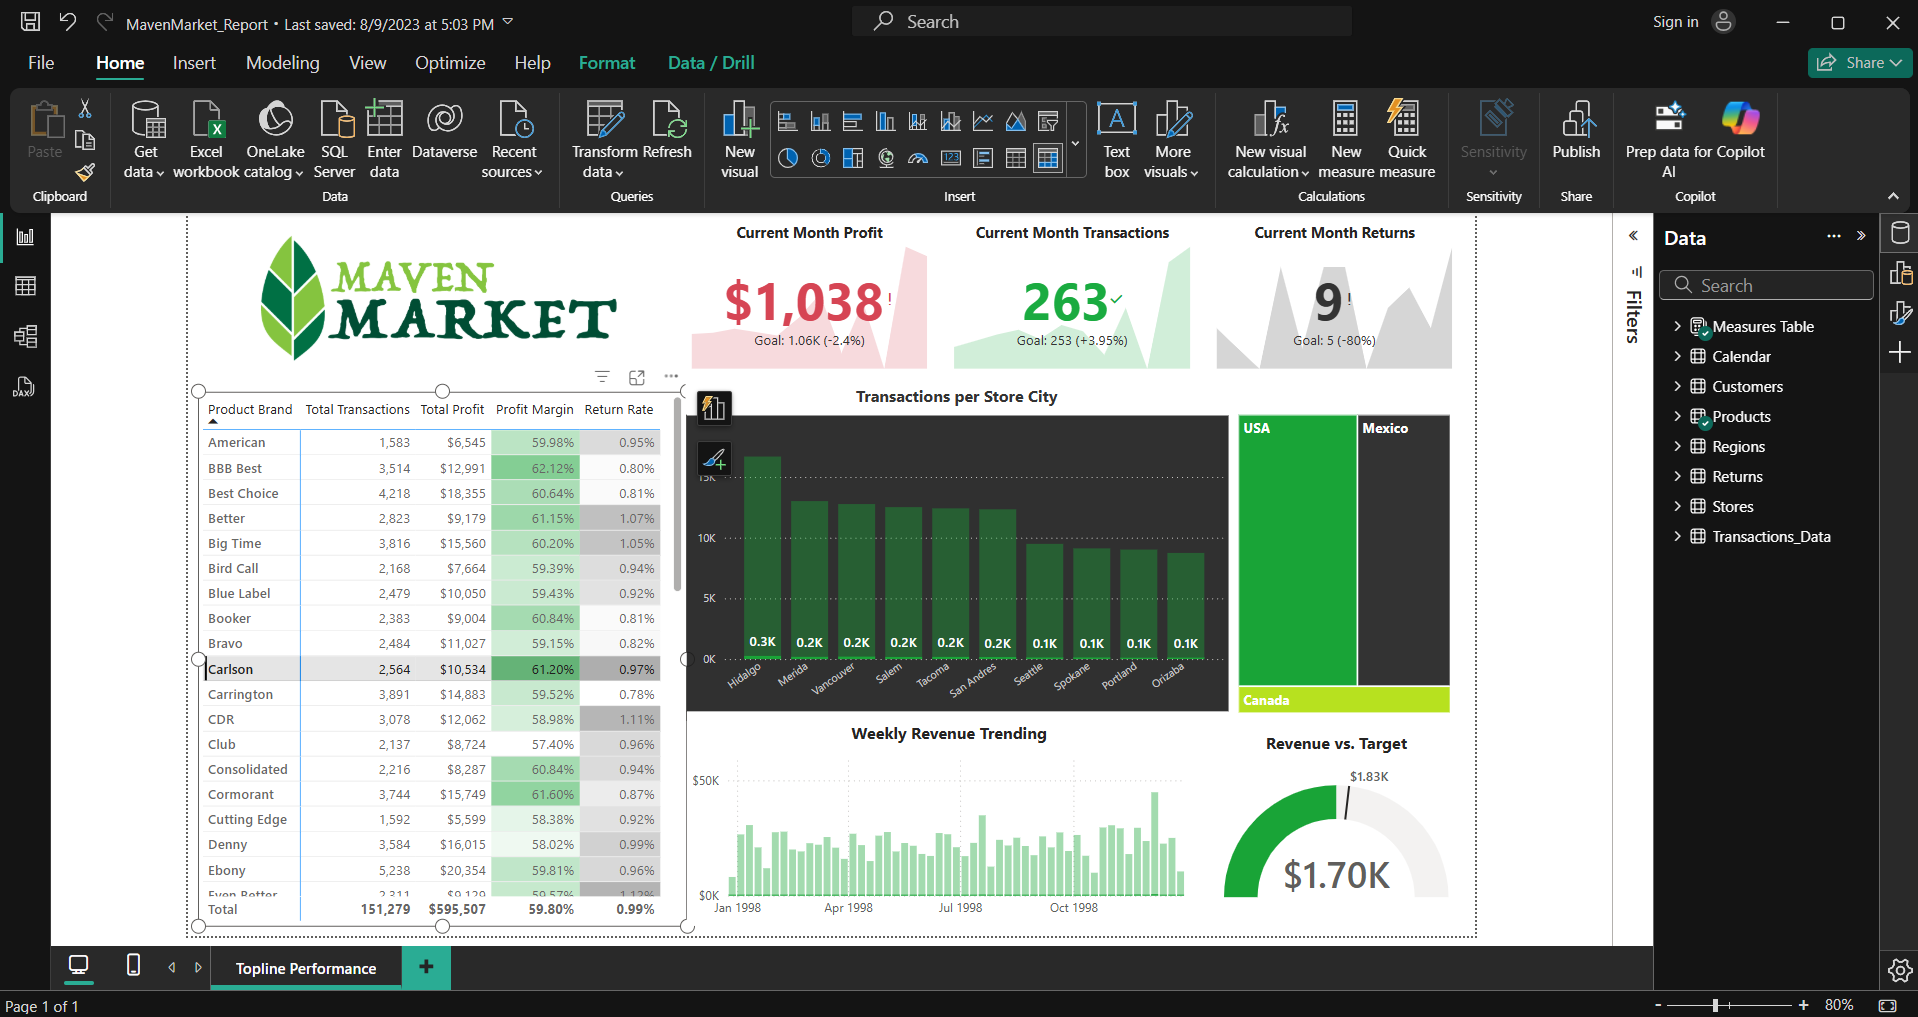

The dashboard page shown, as its layout file describes it:
{"tool":"powerbi","page":{"name":"Topline Performance","canvas":[1280,720],"ordinal":0},"visuals":[{"type":"image","box":[9.8,8.6,476.7,151.6],"z":0},{"type":"kpi","title":"Current Month Profit","fields":{"Indicator":["Measures Table.Total Profit"],"TrendLine":["Calendar.Start of Month"],"Goal":["Measures Table.Last Month Profit"]},"box":[496.3,8.6,244.5,151.6],"z":1000},{"type":"pivotTable","fields":{"Values":["Measures Table.Total Transactions","Measures Table.Total Profit","Measures Table.Profit Margin","Measures Table.Return Rate"],"Rows":["Products.product_brand"]},"box":[9.8,178.5,486.5,531.7],"z":2000},{"type":"columnChart","title":"Transactions by Store City","fields":{"Category":["Stores.store_city"],"Y":["Measures Table.Total Transactions"]},"box":[496.3,201.7,539.1,294.6],"z":3000},{"type":"treemap","fields":{"Group":["Stores.store_country"],"Values":["Measures Table.Total Profit"]},"box":[1035.2,189.9,231,317],"z":4000},{"type":"columnChart","title":"Weekly Revenue Trending","fields":{"Category":["Calendar.Start of Week"],"Y":["Measures Table.Total Revenue"]},"box":[496.1,506.9,522.1,203.3],"z":5000},{"type":"gauge","title":"Revenue vs. Target","fields":{"Y":["Measures Table.Total Revenue"],"TargetValue":["Measures Table.Revenue Target"]},"box":[1018.2,515.8,248.1,170.1],"z":6000},{"type":"kpi","title":"Current Month Transactions","fields":{"TrendLine":["Calendar.Start of Month"],"Indicator":["Measures Table.Total Transactions"],"Goal":["Measures Table.Last Month Transactions"]},"box":[757,8.6,245,151.6],"z":7000},{"type":"kpi","title":"Current Month Returns","fields":{"TrendLine":["Calendar.Start of Month"],"Indicator":["Measures Table.Total Returns"],"Goal":["Measures Table.Last Month Returns"]},"box":[1018.3,8.6,244.5,151.6],"z":8000},{"type":"textbox","box":[495.2,165.7,540,34.9],"z":9000}]}

Visuals, with their boxes on the page's 1280x720 design canvas (x1, y1, x2, y2). These are canvas units, not pixel positions in the 1918x1017 screenshot, which may show the page scaled, cropped or inside an application window:
image: 10/9/486/160
"Current Month Profit" kpi: 496/9/741/160
pivotTable - Measures Table.Total Transactions x Measures Table.Total Profit: 10/178/496/710
"Transactions by Store City" columnChart: 496/202/1035/496
treemap - Stores.store_country x Measures Table.Total Profit: 1035/190/1266/507
"Weekly Revenue Trending" columnChart: 496/507/1018/710
"Revenue vs. Target" gauge: 1018/516/1266/686
"Current Month Transactions" kpi: 757/9/1002/160
"Current Month Returns" kpi: 1018/9/1263/160
textbox: 495/166/1035/201
